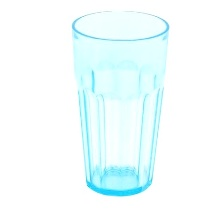glass: (61, 6, 180, 201)
